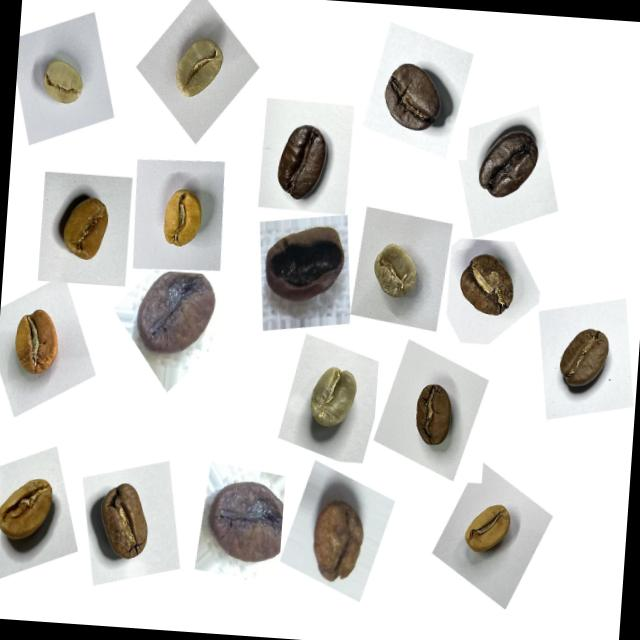bad: (197, 465, 298, 579), (124, 255, 225, 368), (252, 209, 351, 322), (296, 487, 378, 596)
dark: (466, 109, 551, 213), (260, 105, 340, 210), (372, 44, 455, 144)
green: (293, 348, 370, 442), (162, 17, 236, 109), (362, 227, 434, 311), (30, 44, 96, 118)
light: (0, 459, 66, 564), (48, 182, 122, 274), (2, 295, 75, 385), (146, 175, 212, 259), (451, 489, 520, 568)
medium: (84, 467, 167, 572), (447, 240, 525, 327), (548, 310, 622, 399), (398, 368, 468, 455)
